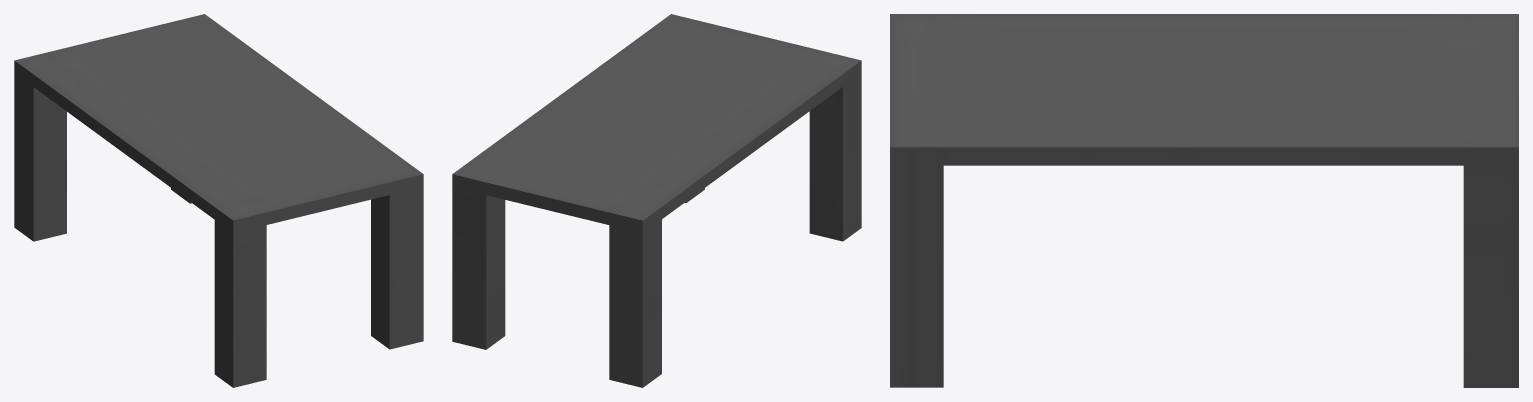
File: livingroom table.dae
3 views of the same model, side by side, from view 1: azimuth 30°, elevation 25°; view 2: azimuth 150°, elevation 25°; view 3: azimuth 270°, elevation 25° (orthographic). The views are drawn at different scales.
Parts seen in each view (by area): view 1: Plane; view 2: Plane; view 3: Plane.
Boxes of the visible parts, x1=… form: Plane: x1=14, y1=14, x2=423, y2=387; Plane: x1=452, y1=14, x2=861, y2=387; Plane: x1=890, y1=14, x2=1518, y2=387.
Size of the model in its own units: 0.3189 by 0.6347 by 0.2679.
Materials: 1 (1 with a texture image).
